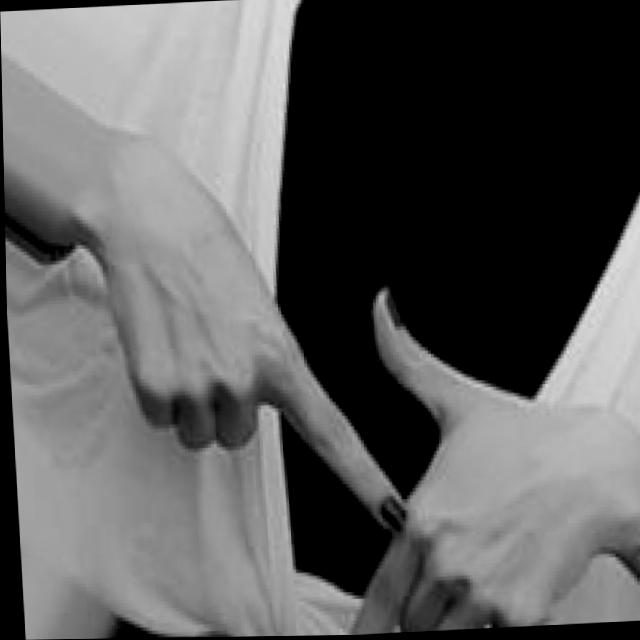F: (117, 264, 578, 638)
